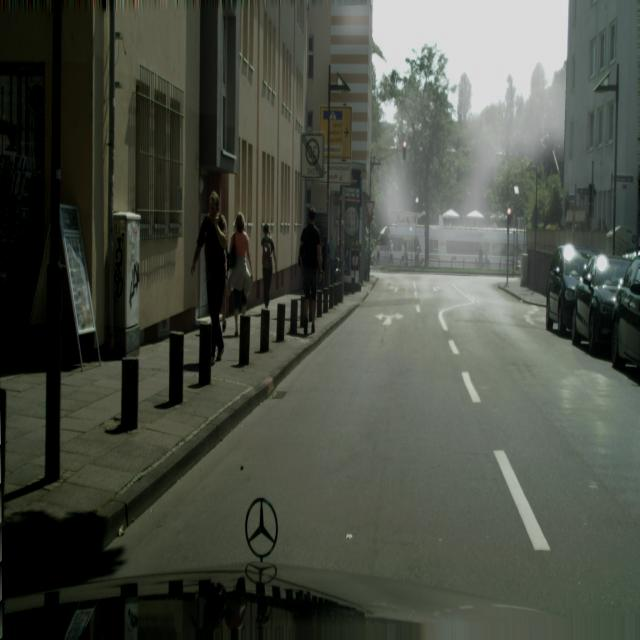person: (190, 190, 228, 361), (298, 207, 322, 336), (228, 214, 253, 336), (261, 222, 277, 310)
truck: (571, 249, 636, 359), (545, 243, 597, 336), (611, 254, 640, 374)
